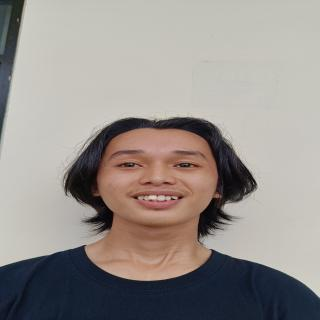Senang: (95, 124, 230, 234)
